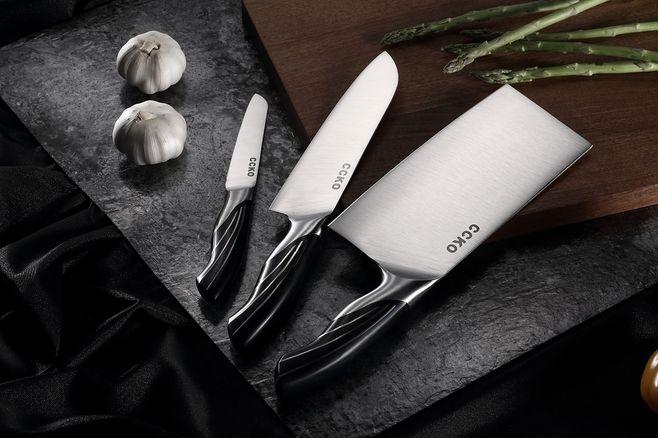knife: (194, 49, 587, 395)
